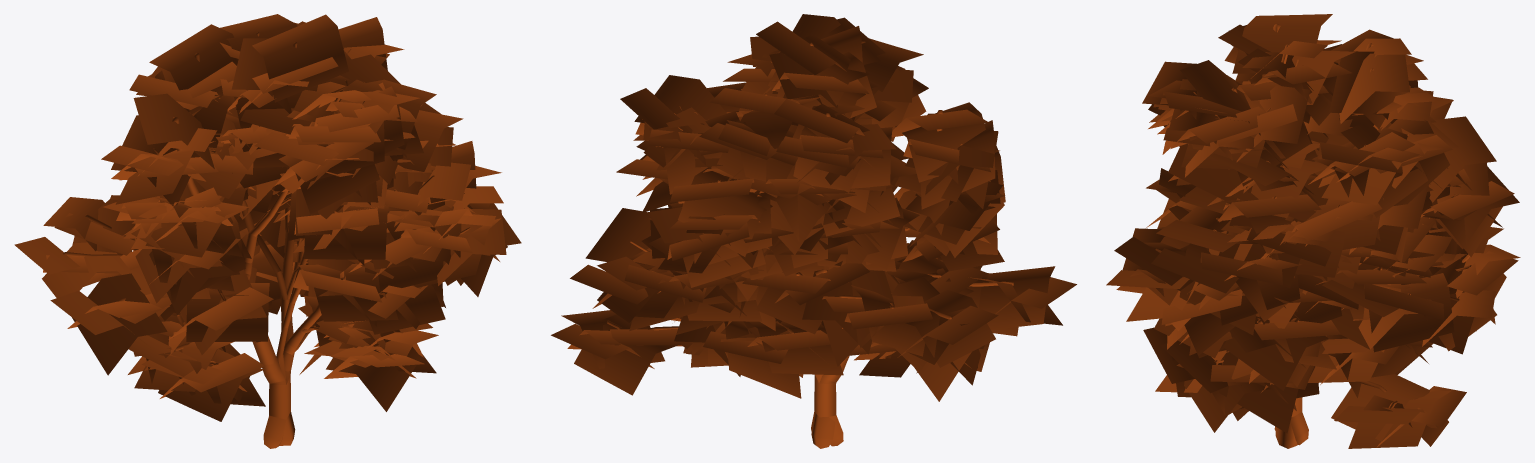
Rendered from Tree3.obj.
3 renders of one model, left to right at view 1: azimuth 30°, elevation 25°; view 2: azimuth 150°, elevation 25°; view 3: azimuth 270°, elevation 25°, orthographic. The views are drawn at different scales.
Visible parts, largest first — view 1: Wallnut_; view 2: Wallnut_; view 3: Wallnut_.
Part boxes in pixels (x1,y1,x2,y2): Wallnut_: (14, 14, 521, 448); Wallnut_: (551, 14, 1076, 448); Wallnut_: (1106, 14, 1520, 448).
Size of the model in its own units: 39.32 by 35.74 by 32.14.
